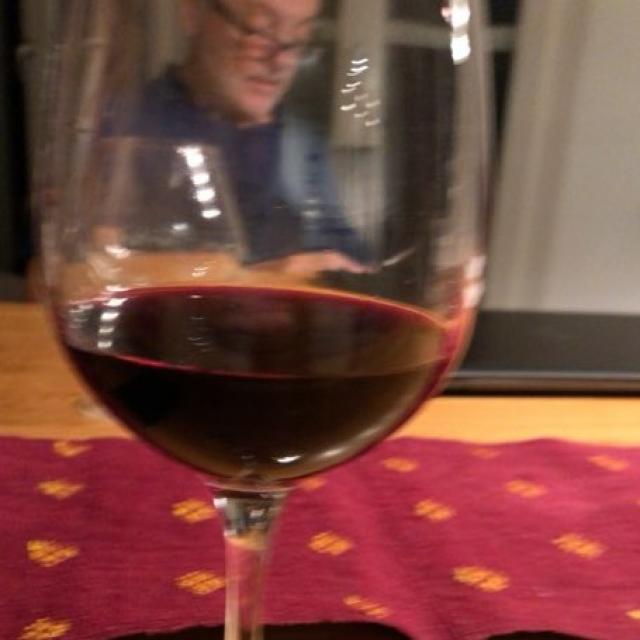wine-red: (67, 275, 459, 473)
